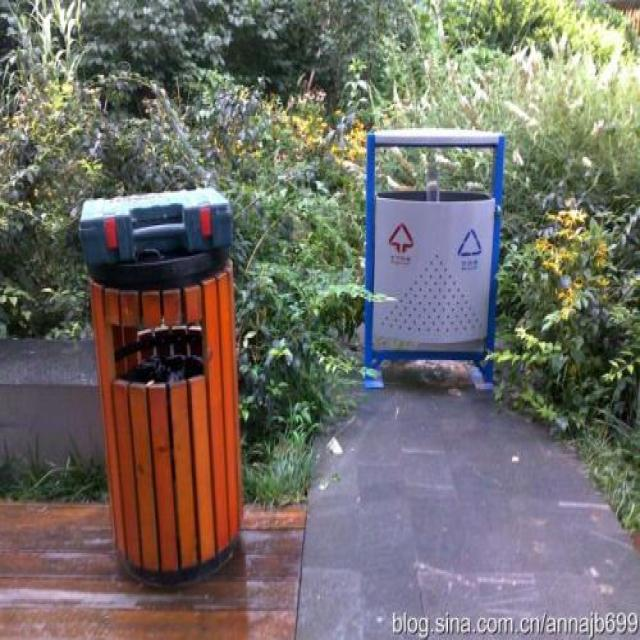garbage_bin: (77, 184, 242, 586), (362, 126, 504, 389)
